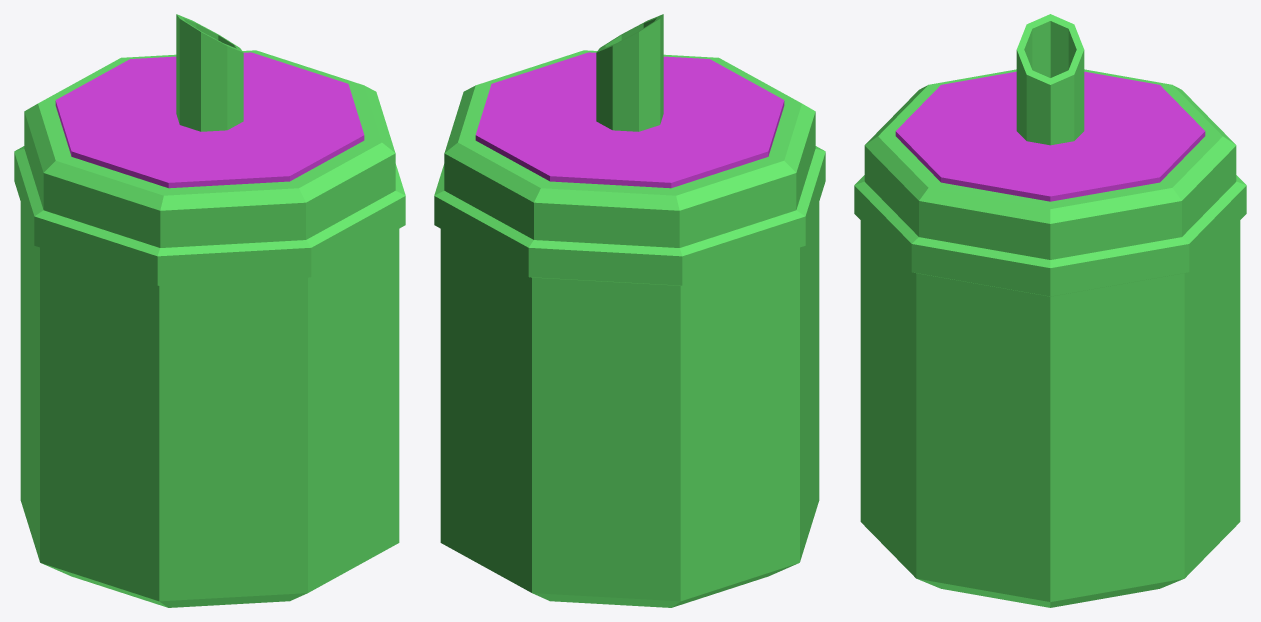
Rendered from Bottle_Sauce_02.fbx.
3 views of the same model, side by side, from view 1: azimuth 30°, elevation 25°; view 2: azimuth 150°, elevation 25°; view 3: azimuth 270°, elevation 25° (orthographic). The views are drawn at different scales.
Parts seen in each view (by area): view 1: Bottle_Sauce_02, Bottle_Sauce_02_Cap; view 2: Bottle_Sauce_02, Bottle_Sauce_02_Cap; view 3: Bottle_Sauce_02, Bottle_Sauce_02_Cap.
Part boxes in pixels (box(x1,y1,x2,y2)): Bottle_Sauce_02: box(20, 202, 399, 607); Bottle_Sauce_02_Cap: box(14, 14, 405, 285); Bottle_Sauce_02: box(440, 202, 819, 607); Bottle_Sauce_02_Cap: box(434, 14, 825, 285); Bottle_Sauce_02: box(860, 220, 1240, 607); Bottle_Sauce_02_Cap: box(854, 14, 1246, 296).
Bounding box in the file's own units: 10.37 × 14.99 × 10.37.
